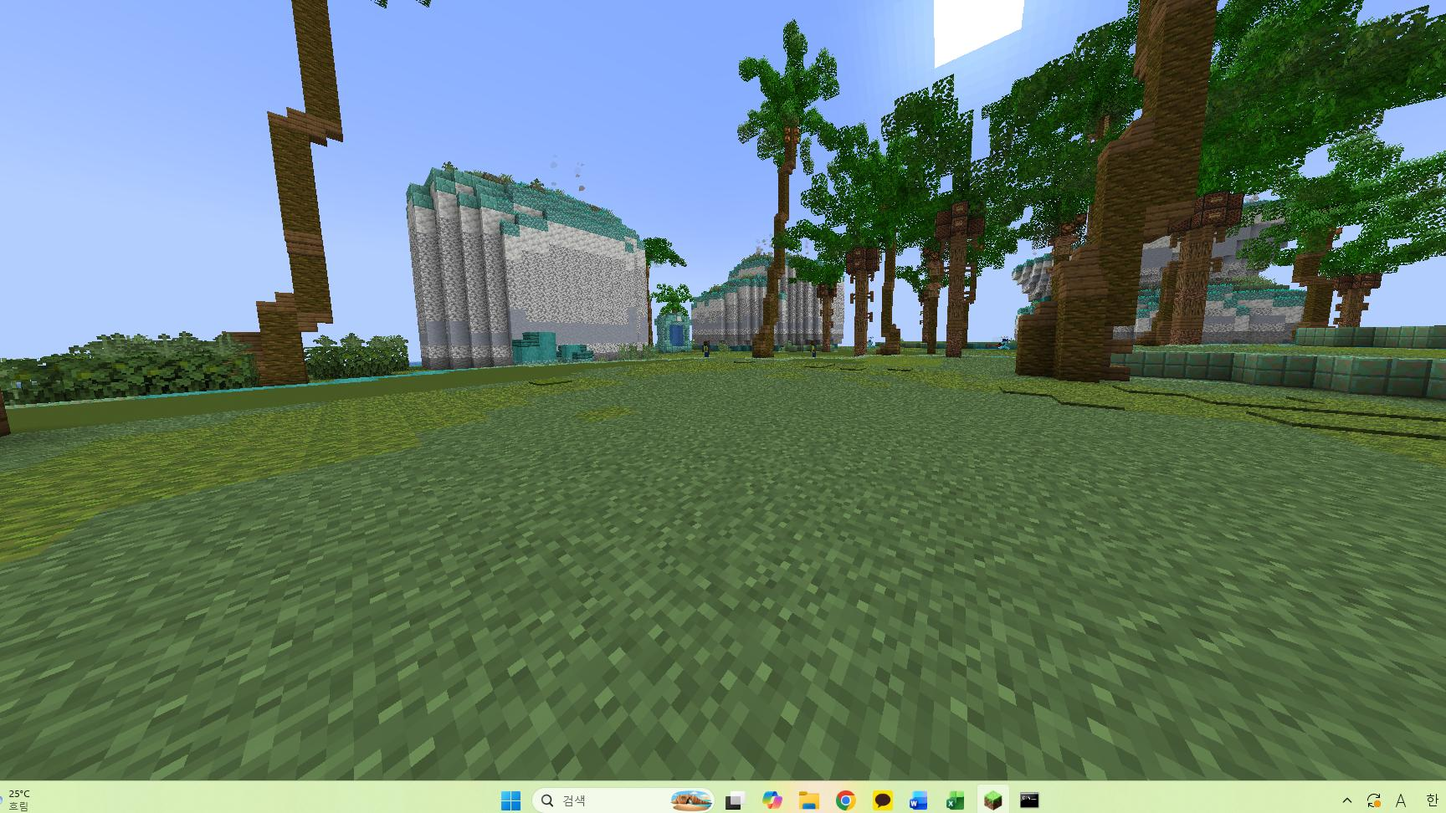Guardian: (812, 345, 820, 359), (704, 339, 710, 355)
